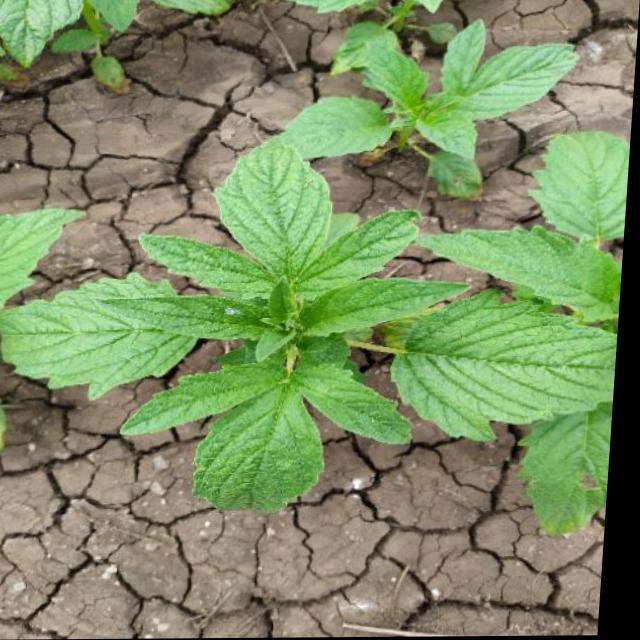crop: (6, 141, 447, 525), (416, 105, 634, 557), (264, 23, 586, 206)
